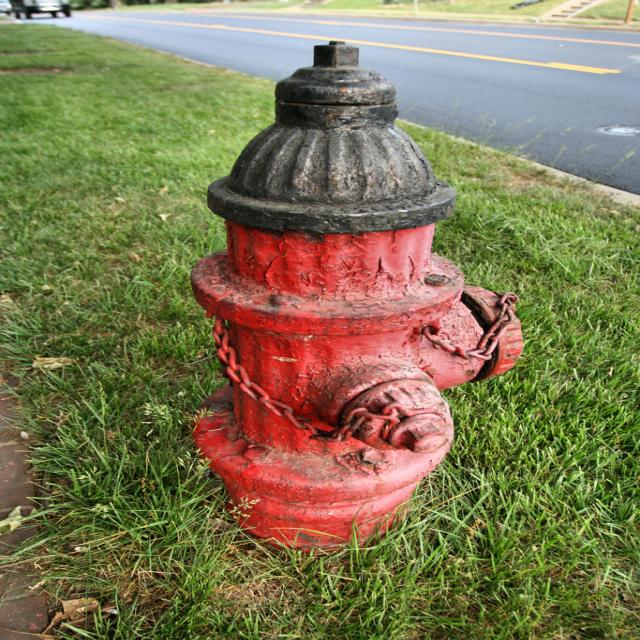fire_hydrant: (193, 39, 525, 551), (192, 42, 520, 551)
